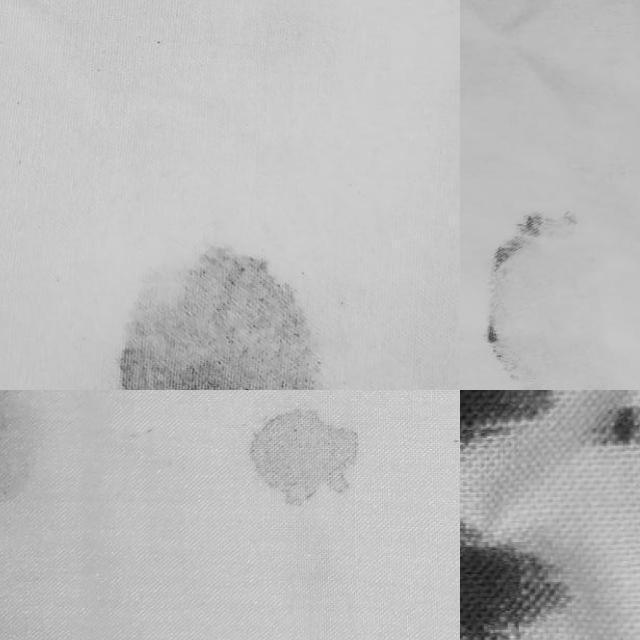Thread_other: (88, 228, 356, 390), (465, 190, 639, 390), (212, 390, 386, 536), (460, 498, 624, 640), (0, 390, 85, 564), (460, 390, 571, 474), (579, 390, 640, 474)
